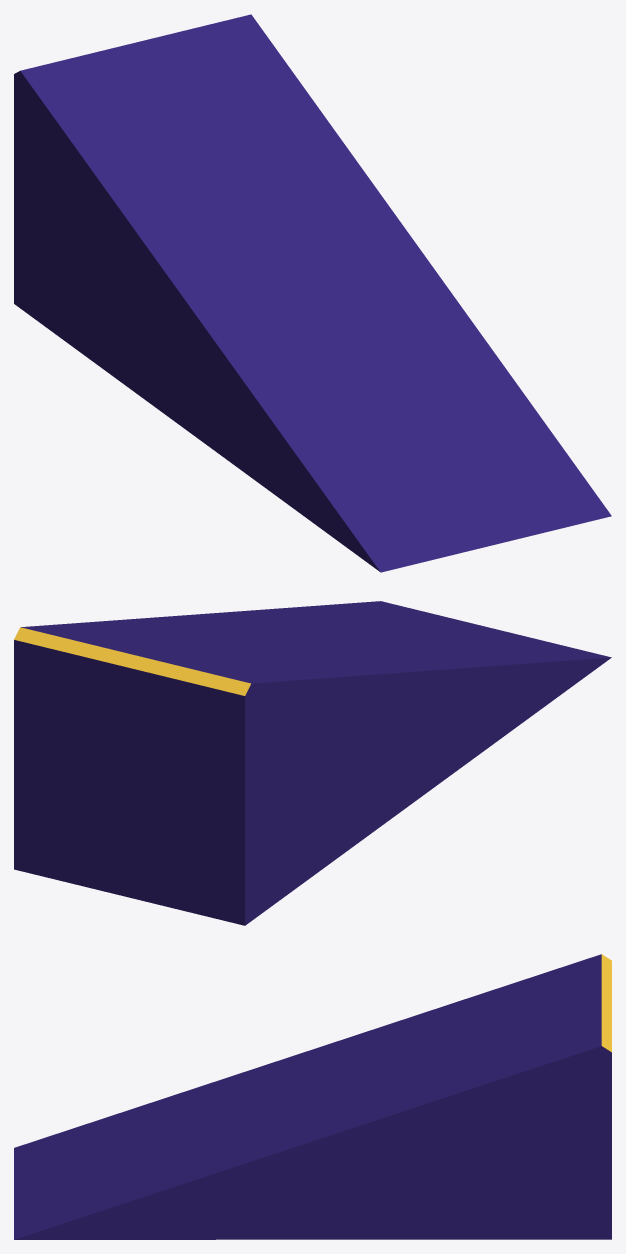
The model's file is sm_largeRamp_1.fbx.
3 views of the same model, one above another, from view 1: azimuth 30°, elevation 25°; view 2: azimuth 150°, elevation 25°; view 3: azimuth 270°, elevation 25° (orthographic). The views are drawn at different scales.
Parts seen in each view (by area): view 1: pCube2; view 2: pCube2; view 3: pCube2.
Boxes of the visible parts, x1,y1,x2,y2 form: pCube2: [14, 14, 611, 572]; pCube2: [14, 601, 611, 925]; pCube2: [14, 954, 611, 1239].
Size of the model in its own units: 400 by 394 by 1100.
